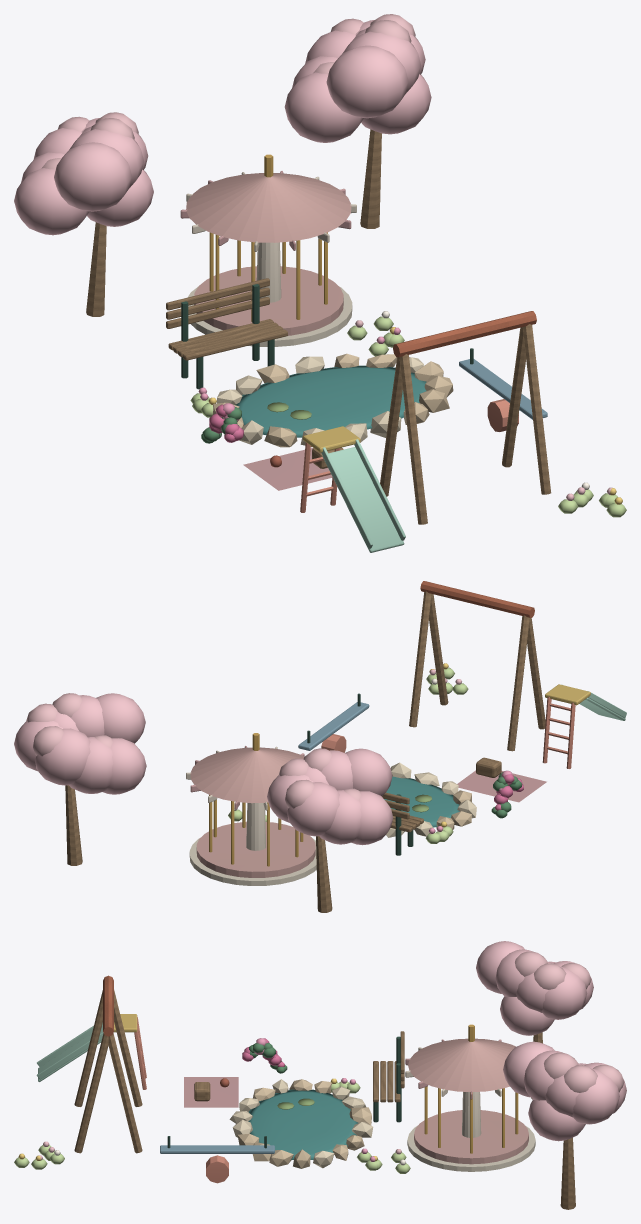
File: park.glb
The picture shows the model from 3 angles, top to bottom: view 1: azimuth 30°, elevation 25°; view 2: azimuth 150°, elevation 25°; view 3: azimuth 270°, elevation 25°; orthographic projection. The views are drawn at different scales.
Parts seen in each view (by area): view 1: park_static; view 2: park_static; view 3: park_static.
Boxes of the visible parts, left/top/right/bottom form: park_static: left=14, top=14, right=626, bottom=552; park_static: left=14, top=581, right=626, bottom=912; park_static: left=14, top=941, right=626, bottom=1209.
Bounding box in the file's own units: 6.29 × 3.03 × 10.13.
Materials: 5 (2 with a texture image).
